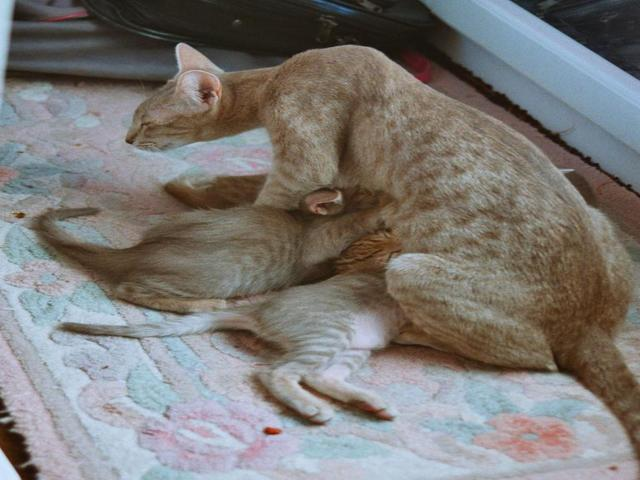cat: (97, 33, 594, 293)
